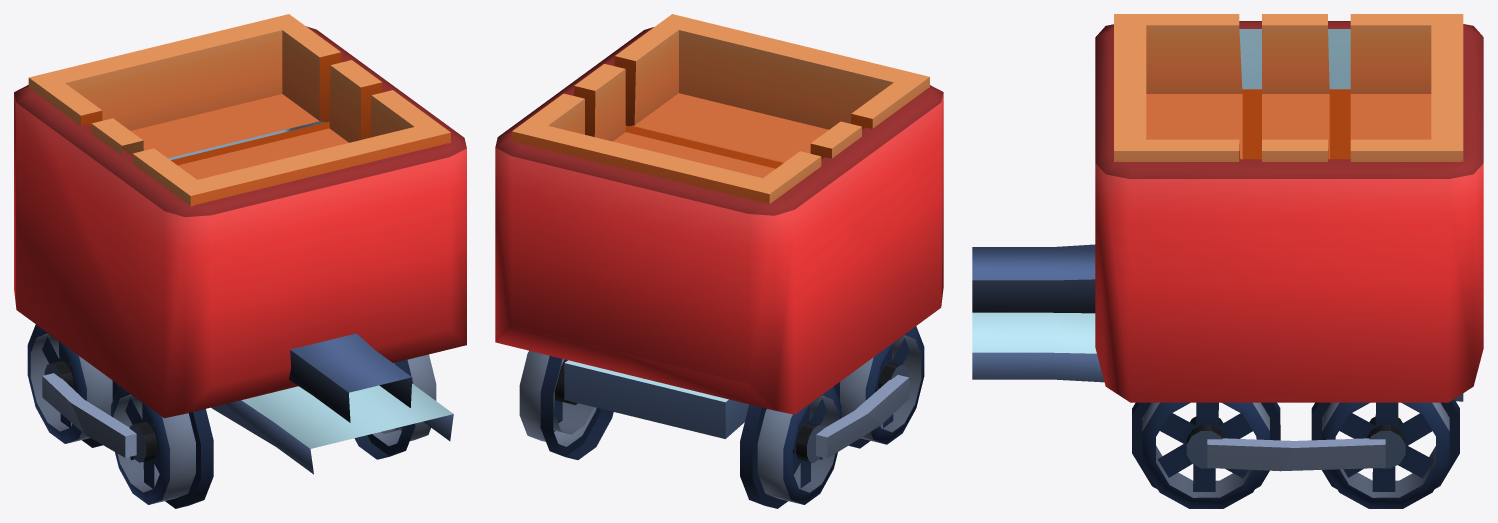
File: train_1-Vagon.fbx
3 views of the same model, side by side, from view 1: azimuth 30°, elevation 25°; view 2: azimuth 150°, elevation 25°; view 3: azimuth 270°, elevation 25° (orthographic). The views are drawn at different scales.
Visible parts, largest first — view 1: train-vagon.001; view 2: train-vagon.001; view 3: train-vagon.001.
Boxes of the visible parts, box(x1,y1,x2,y2) form: train-vagon.001: box(14, 14, 466, 508); train-vagon.001: box(495, 14, 943, 508); train-vagon.001: box(972, 14, 1483, 508).
Size of the model in its own units: 171 by 180 by 227.
